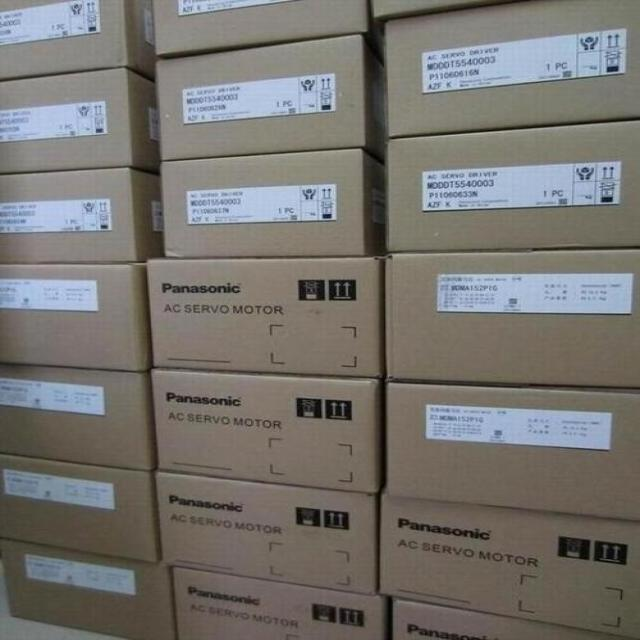box: (374, 496, 638, 639), (381, 249, 639, 392), (384, 0, 639, 141), (380, 380, 639, 518), (383, 117, 639, 253), (145, 255, 381, 379), (157, 36, 385, 164), (153, 370, 383, 494), (155, 471, 383, 595), (162, 149, 385, 257), (0, 66, 160, 174), (0, 541, 178, 638), (0, 454, 157, 561), (0, 263, 153, 372), (0, 364, 154, 470), (0, 168, 163, 266), (172, 566, 390, 639), (155, 1, 385, 57), (0, 2, 157, 81), (387, 599, 636, 639), (370, 3, 511, 21)
